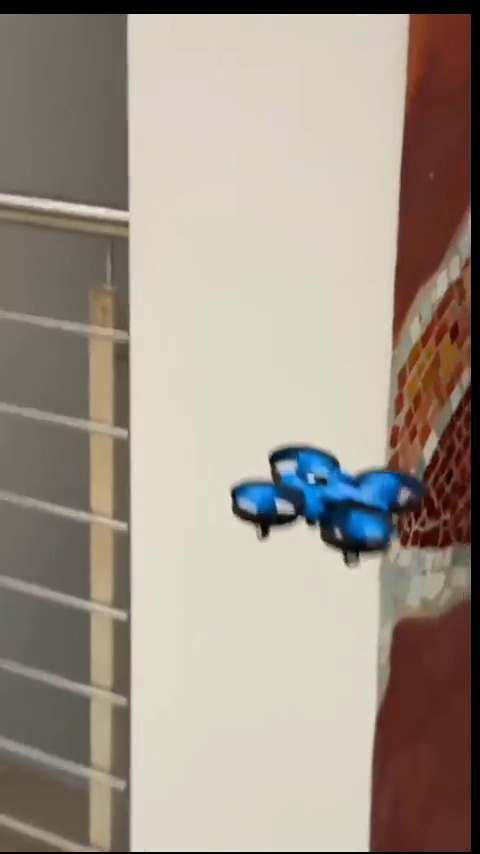drone: (234, 444, 424, 568)
